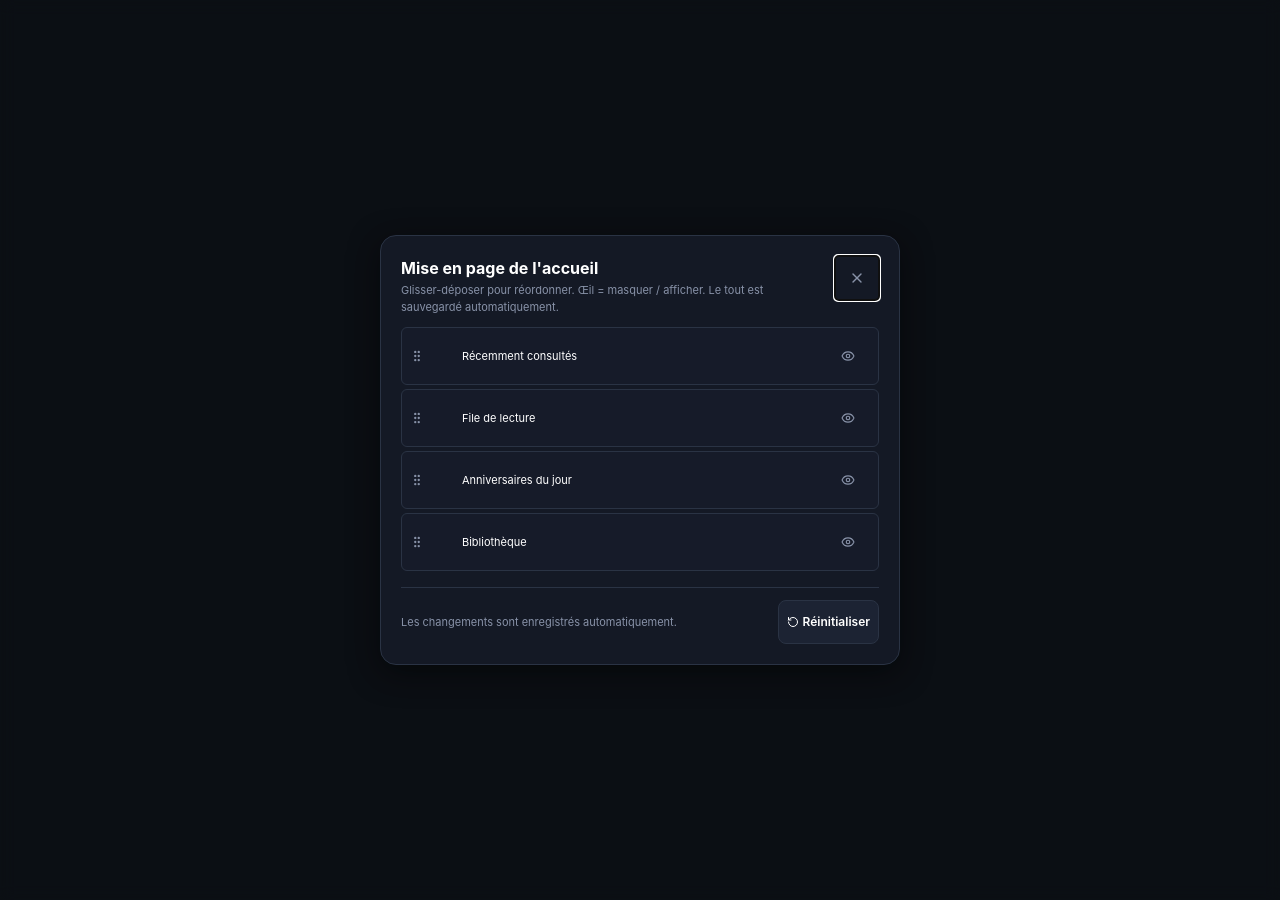
Test case: HomeLayoutEditorTrigger › toasts and keeps the dialog open when the visibility PATCH fails
Click the button named "Masquer la section" in the row of "Récemment consultés" at (848, 356), box top-left (826, 334), bottom-right (870, 378)
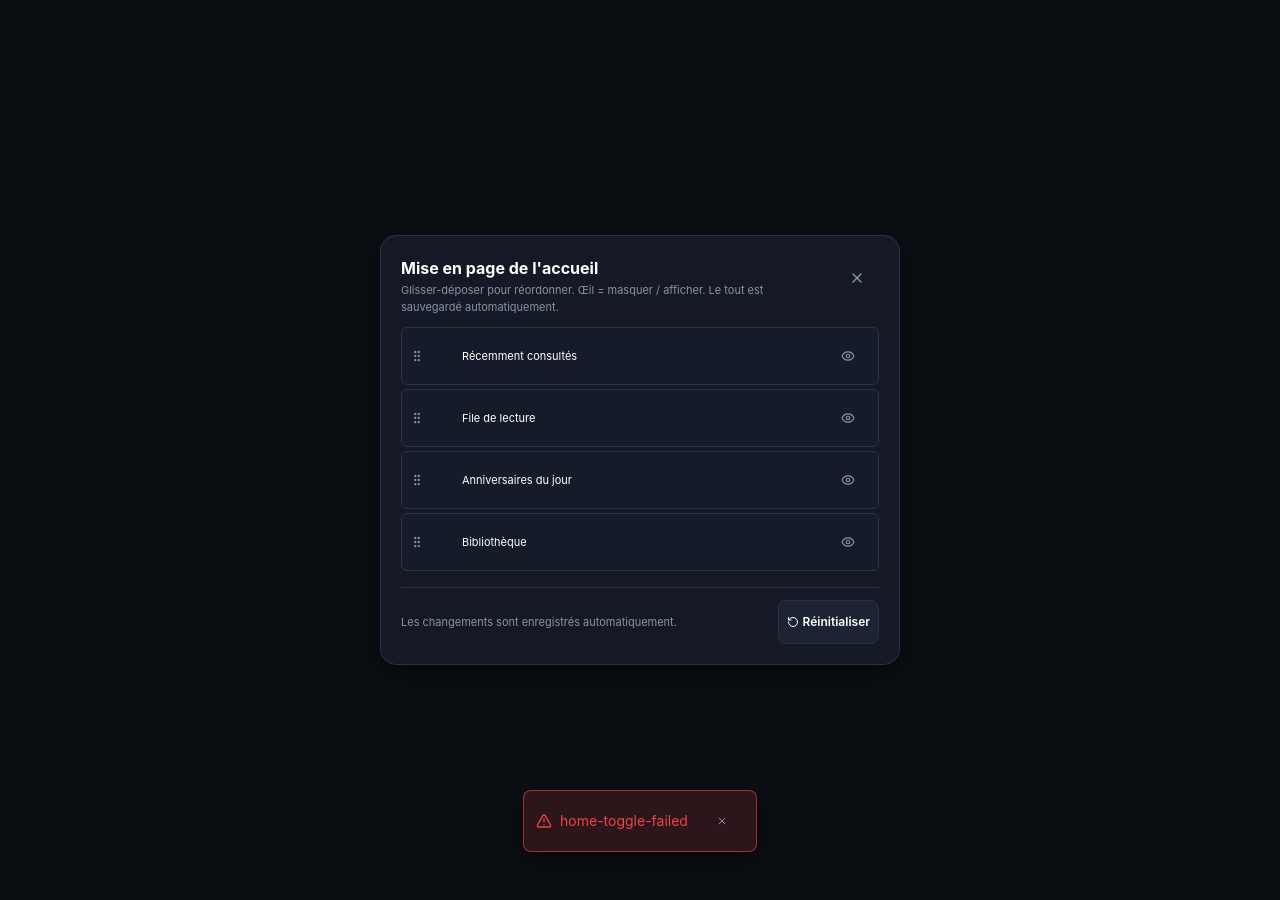
Check: the dialog is shown, box top-left (380, 235), bottom-right (900, 665)
Check: the text "home-toggle-failed" is shown, box top-left (560, 811), bottom-right (688, 831)
